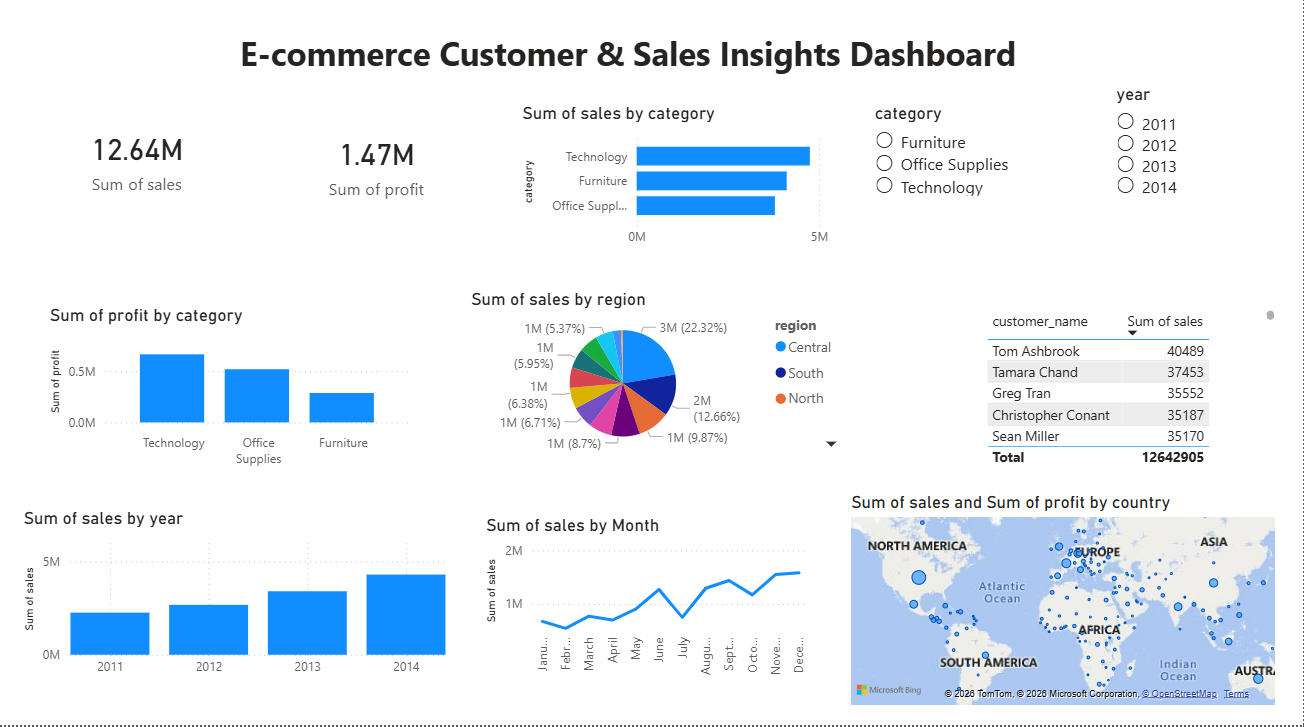

Layout of this report page (visuals, bound fields, positions):
{"tool":"powerbi","page":{"name":"Page 1","canvas":[1280,720],"ordinal":0},"visuals":[{"type":"card","fields":{"Values":["Sum(SuperStoreOrders.sales)"]},"box":[22.9,108.6,231.4,112.9],"z":0},{"type":"card","fields":{"Values":["Sum(SuperStoreOrders.profit)"]},"box":[234.3,110,277.1,120],"z":1000},{"type":"clusteredColumnChart","fields":{"Category":["SuperStoreOrders.category"],"Y":["Sum(SuperStoreOrders.profit)"]},"box":[50,308.6,485.7,165.7],"z":3000},{"type":"pieChart","fields":{"Category":["SuperStoreOrders.region"],"Y":["Sum(SuperStoreOrders.sales)"]},"box":[548.6,308.6,415.7,164.3],"z":4000},{"type":"lineChart","fields":{"Category":["SuperStoreOrders.order_date.Variation.Date Hierarchy.Month"],"Y":["Sum(SuperStoreOrders.sales)"]},"box":[50,514.3,670,167.1],"z":5000},{"type":"tableEx","fields":{"Values":["SuperStoreOrders.customer_name","Sum(SuperStoreOrders.sales)"]},"box":[964.3,292.9,292.9,162.9],"z":6000},{"type":"textbox","box":[234.3,17.1,808.6,91.4],"z":7000},{"type":"listSlicer","fields":{"Values":["SuperStoreOrders.category"]},"box":[855.7,110,215.7,210],"z":8000},{"type":"listSlicer","fields":{"Values":["Ecommerce.year"]},"box":[1092.9,108.6,164.3,200],"z":9000},{"type":"map","fields":{"Category":["Ecommerce.country"],"Size":["Sum(Ecommerce.sales)"]},"box":[767.1,490,424.3,214.3],"z":10000},{"type":"clusteredBarChart","fields":{"Category":["Ecommerce.category"],"Y":["Sum(Ecommerce.sales)"]},"box":[511,110,345,150],"z":10001}]}

Visuals, with their boxes in screenshot pixels (x1, y1, x2, y2), scaled from the page's 1280x720 canvas onto the 1307x727 screenshot:
card - Sum(SuperStoreOrders.sales): 23 110 260 224
card - Sum(SuperStoreOrders.profit): 239 111 522 232
clusteredColumnChart - SuperStoreOrders.category x Sum(SuperStoreOrders.profit): 51 312 547 479
pieChart - SuperStoreOrders.region x Sum(SuperStoreOrders.sales): 560 312 985 477
lineChart - SuperStoreOrders.order_date.Variation.Date Hierarchy.Month x Sum(SuperStoreOrders.sales): 51 519 735 688
tableEx - SuperStoreOrders.customer_name x Sum(SuperStoreOrders.sales): 985 296 1284 460
textbox: 239 17 1065 110
listSlicer - SuperStoreOrders.category: 874 111 1094 323
listSlicer - Ecommerce.year: 1116 110 1284 312
map - Ecommerce.country x Sum(Ecommerce.sales): 783 495 1217 711
clusteredBarChart - Ecommerce.category x Sum(Ecommerce.sales): 522 111 874 263
